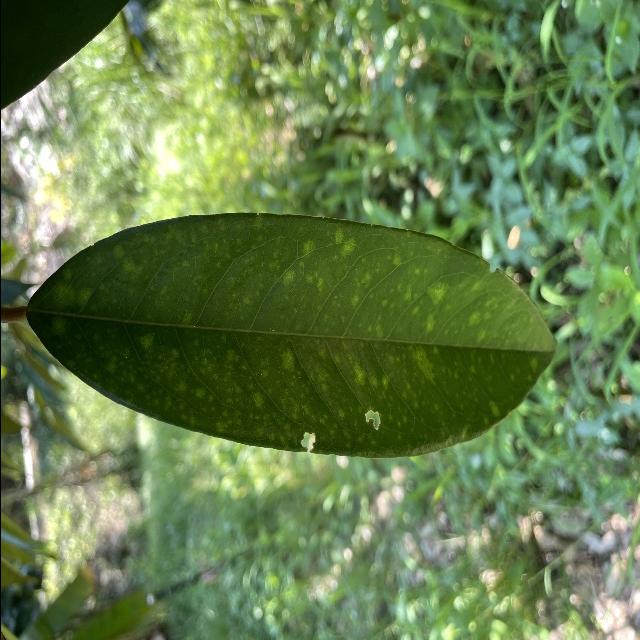Leaf Spot: (9, 199, 565, 465)
